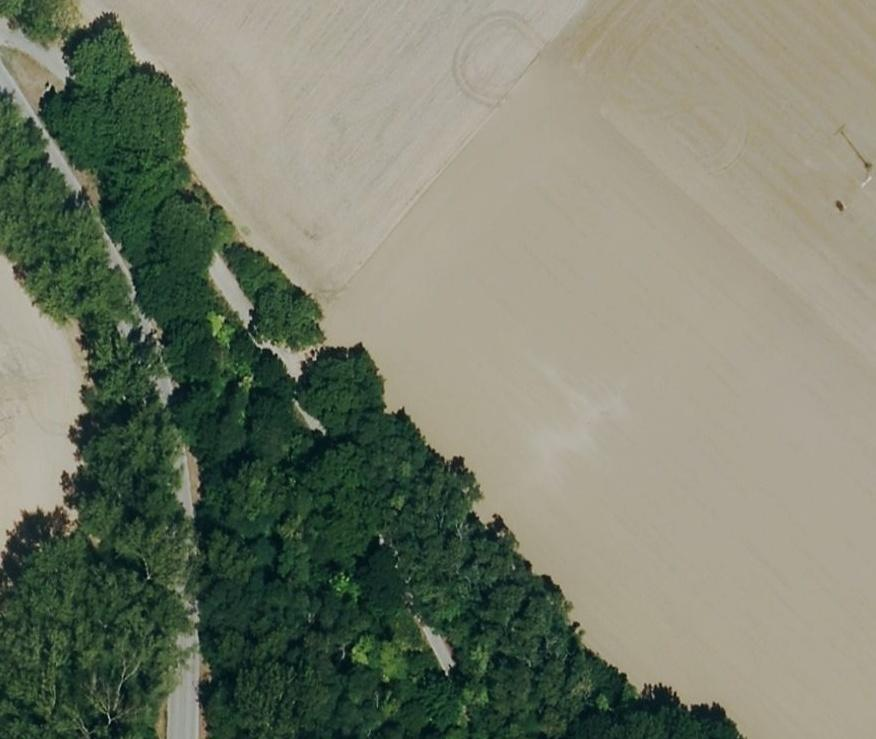field: (86, 0, 876, 736), (0, 255, 86, 550)
forest: (41, 15, 737, 737), (0, 94, 193, 737)
